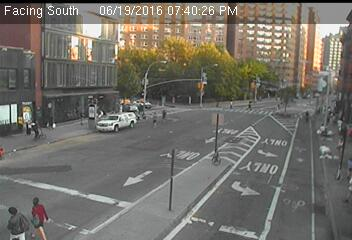neg: (184, 90, 197, 107), (170, 93, 179, 105)
pos: (23, 194, 54, 236), (1, 201, 28, 237), (336, 117, 348, 133), (226, 98, 237, 113), (149, 112, 160, 126), (160, 106, 170, 120), (246, 99, 254, 110)
